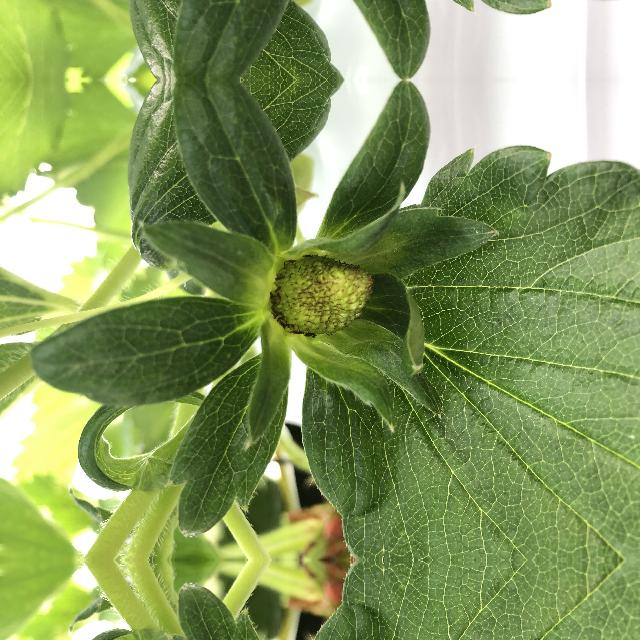Health_25: (266, 255, 378, 342)
